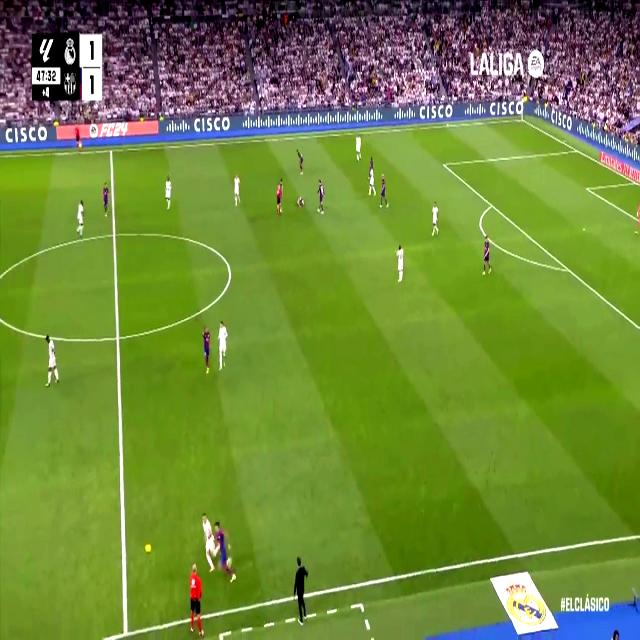bigarea_bottom_inner: (635, 315, 640, 337)
bigarea_top_inner: (441, 157, 447, 171)
bigarea_top_outter: (572, 143, 580, 155)
bottom_arc_area_intersection: (563, 261, 572, 277)
corner: (518, 114, 526, 124)
halfcircle_bottom: (112, 322, 124, 351)
halfcircle_top: (108, 223, 120, 246)
midline_bottom_intersection: (118, 613, 134, 639)
midline_top_intersection: (107, 142, 115, 158)
smallarea_top_inner: (584, 183, 590, 193)
top_arc_area_intersection: (489, 197, 495, 211)
